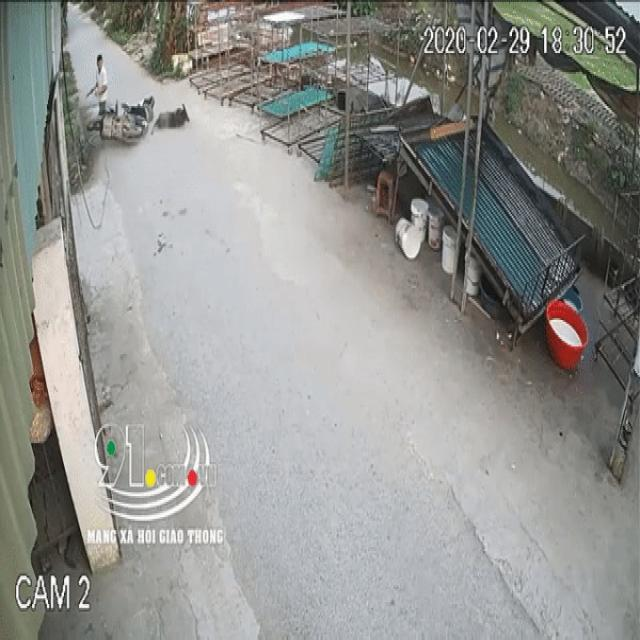multiple_accident: (87, 87, 158, 147)
